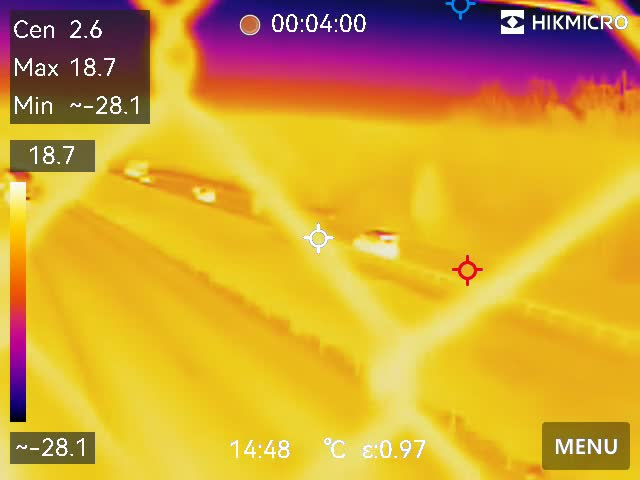heavyTruck: (117, 155, 150, 177)
